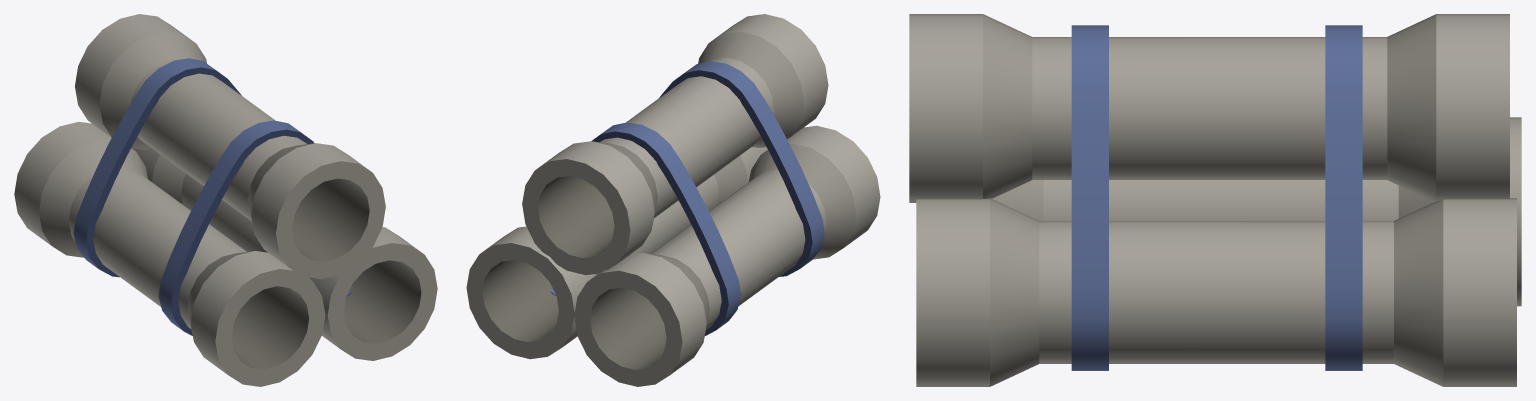
The model's file is Pipe Package.FBX.
3 views of the same model, side by side, from view 1: azimuth 30°, elevation 25°; view 2: azimuth 150°, elevation 25°; view 3: azimuth 270°, elevation 25° (orthographic). The views are drawn at different scales.
Visible parts, largest first — view 1: Rectangle001; view 2: Rectangle001; view 3: Rectangle001.
Part boxes in pixels (x1,y1,x2,y2): Rectangle001: (14, 14, 437, 386); Rectangle001: (466, 14, 880, 386); Rectangle001: (909, 14, 1521, 386).
Bounding box in the file's own units: 239 × 217 × 384.
